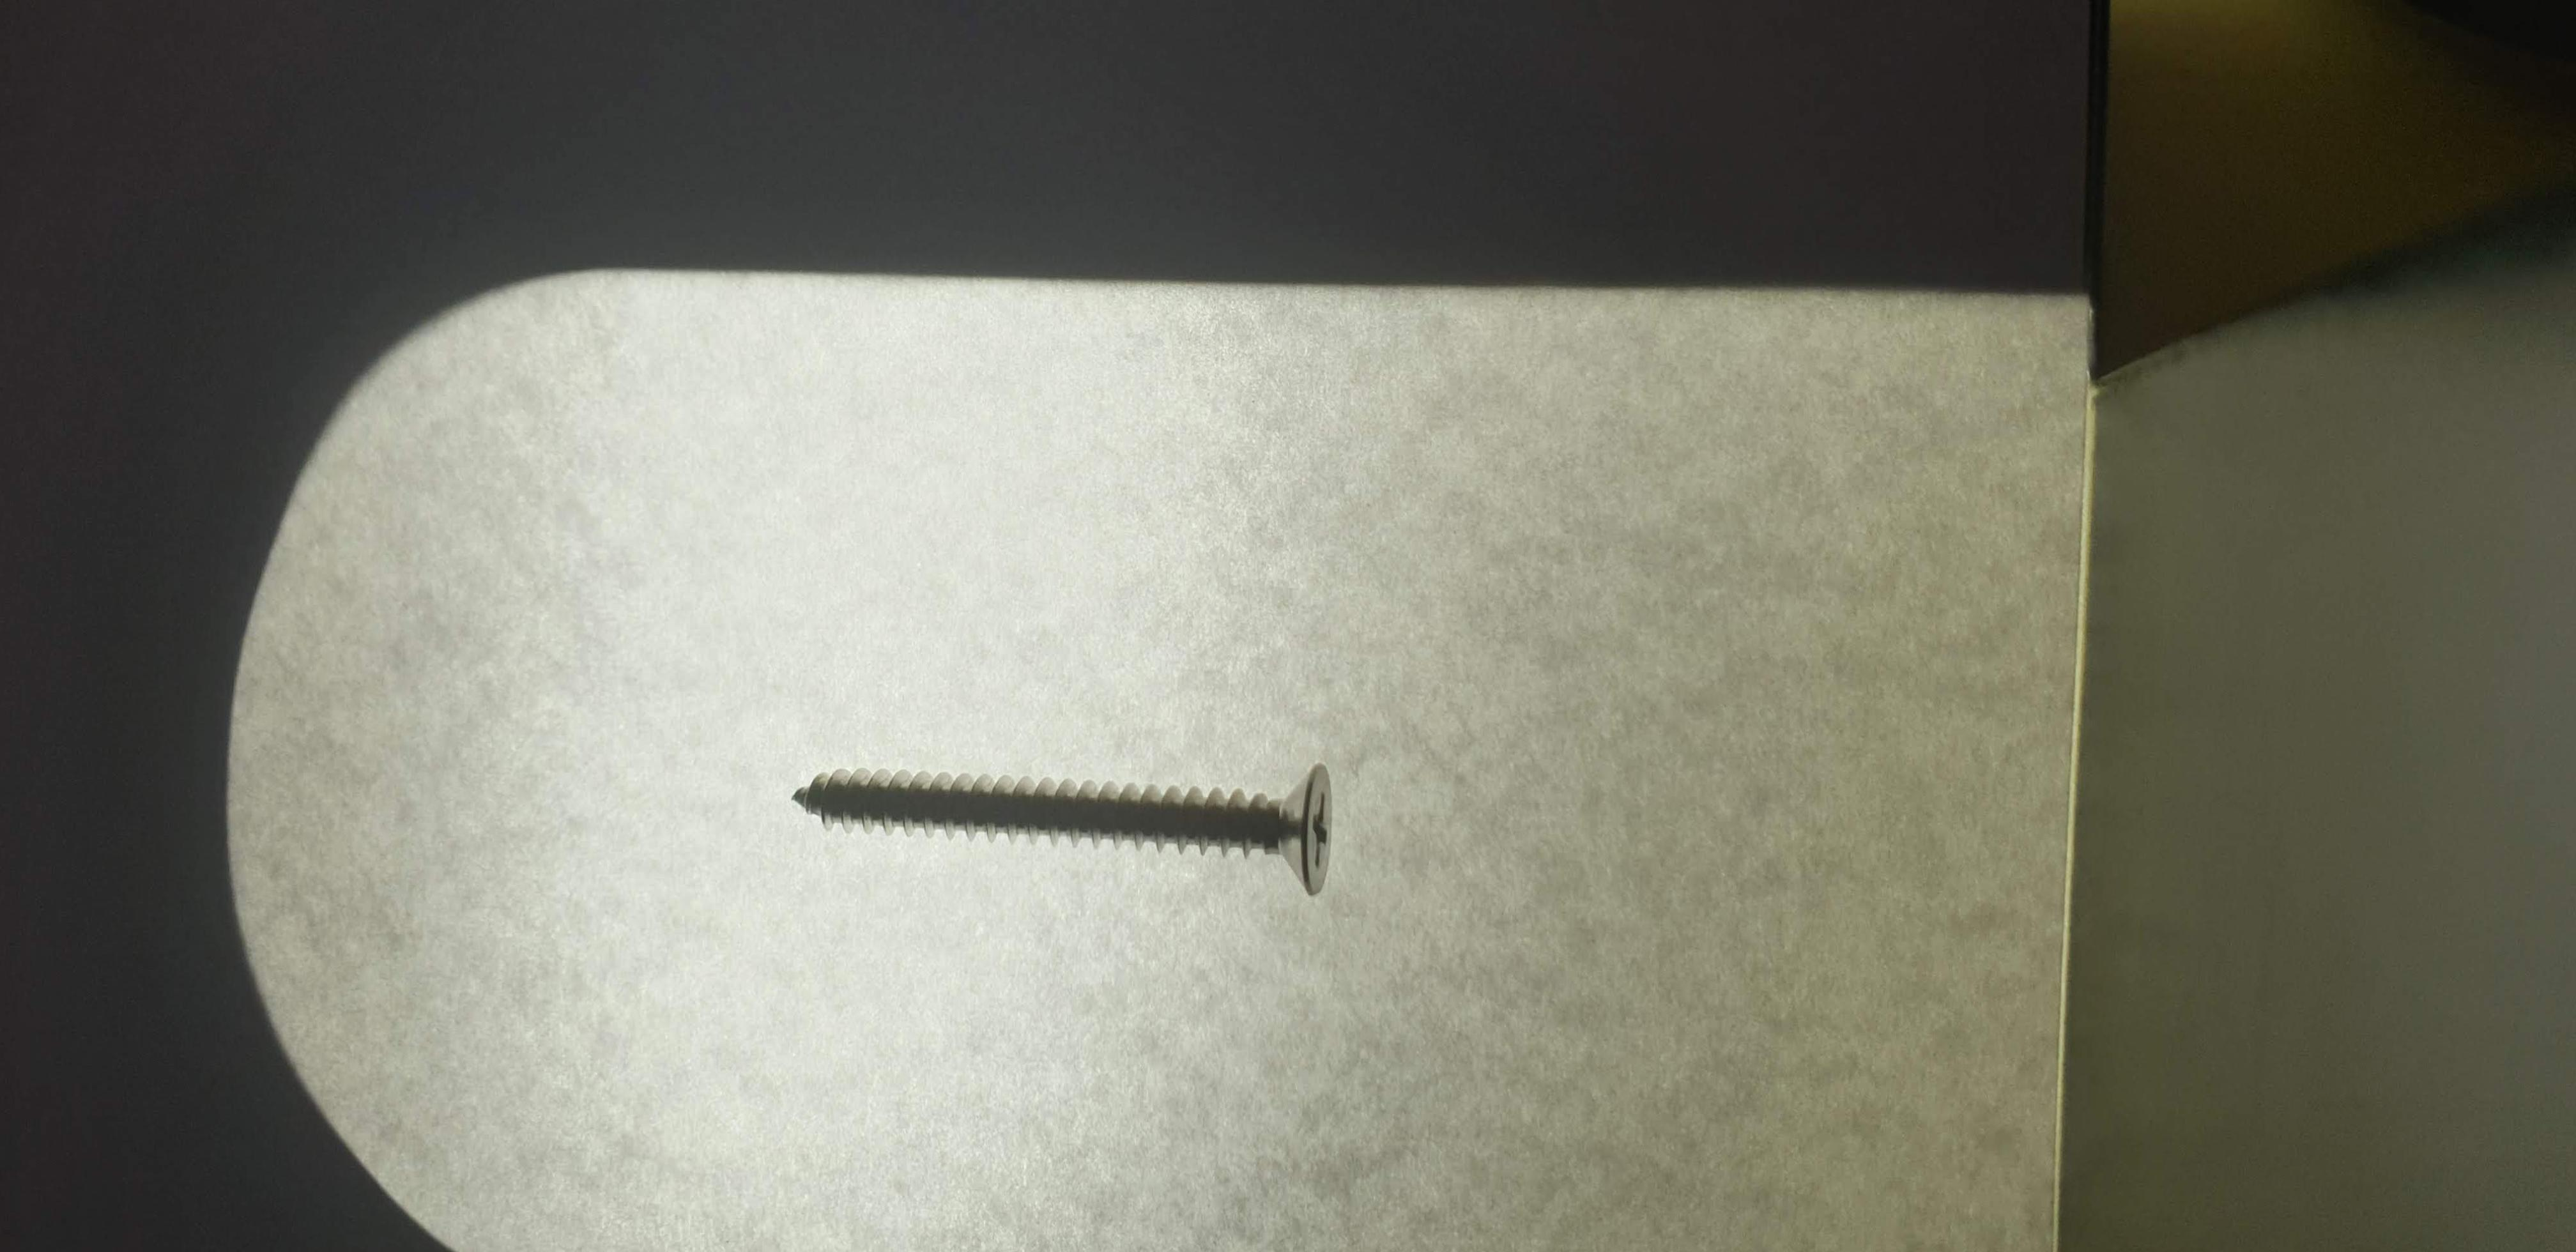S001: (756, 710, 1375, 925)
